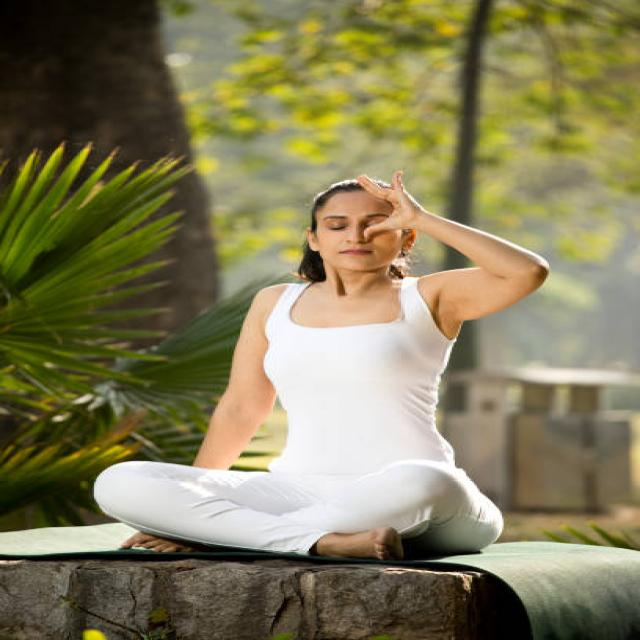Real human 2: (81, 174, 580, 570)
